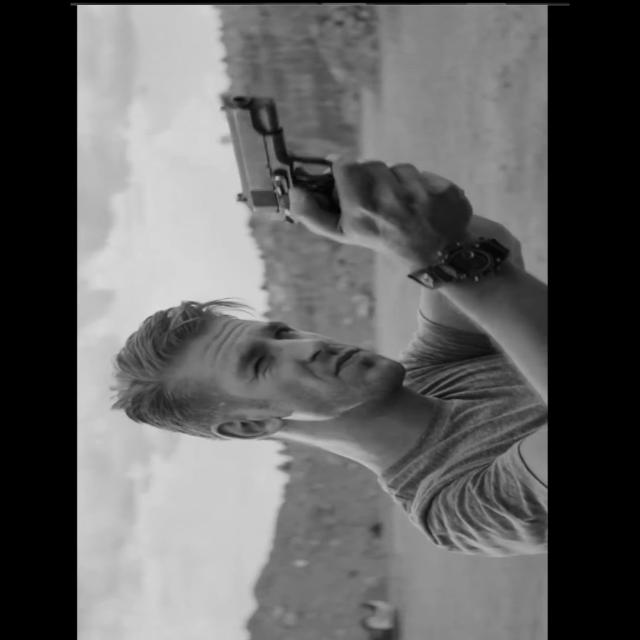weapons: (200, 81, 380, 230)
